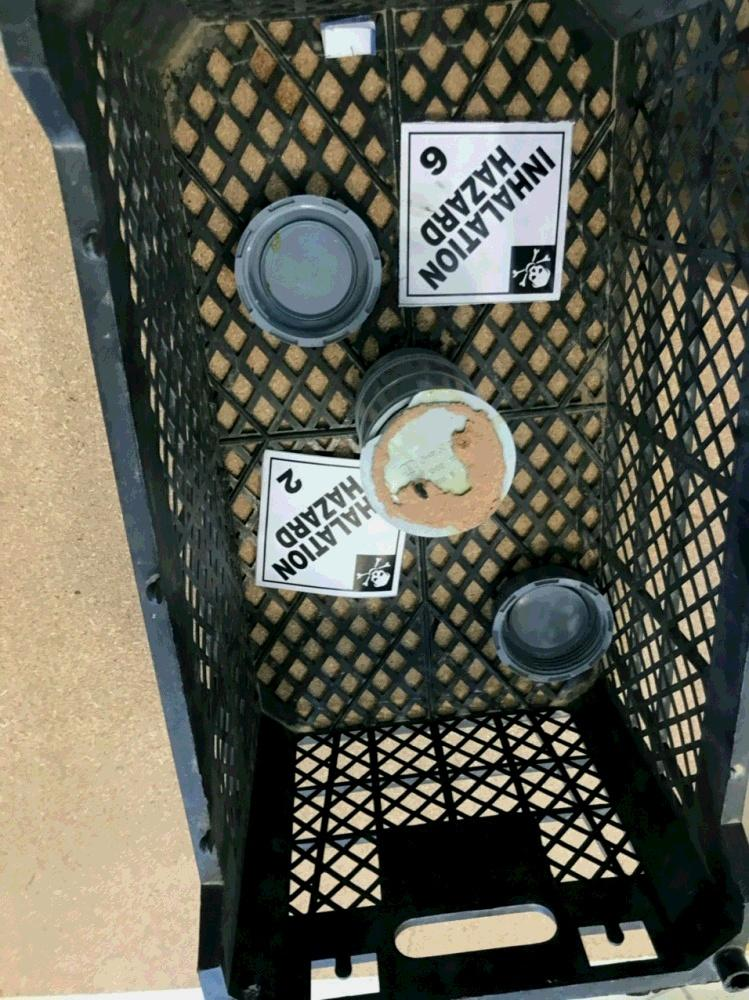poison: (402, 127, 573, 303), (254, 449, 412, 598)
